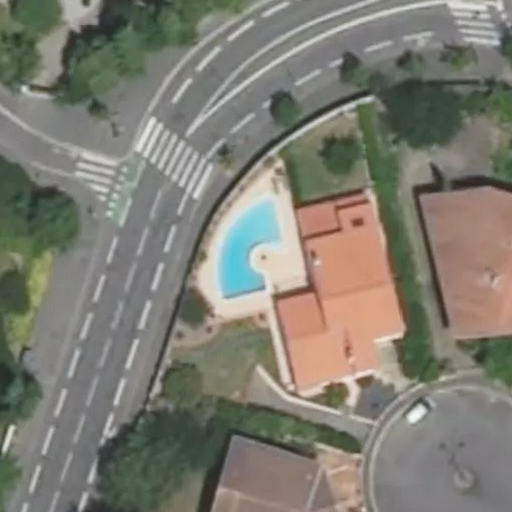pool: (206, 206, 298, 277)
